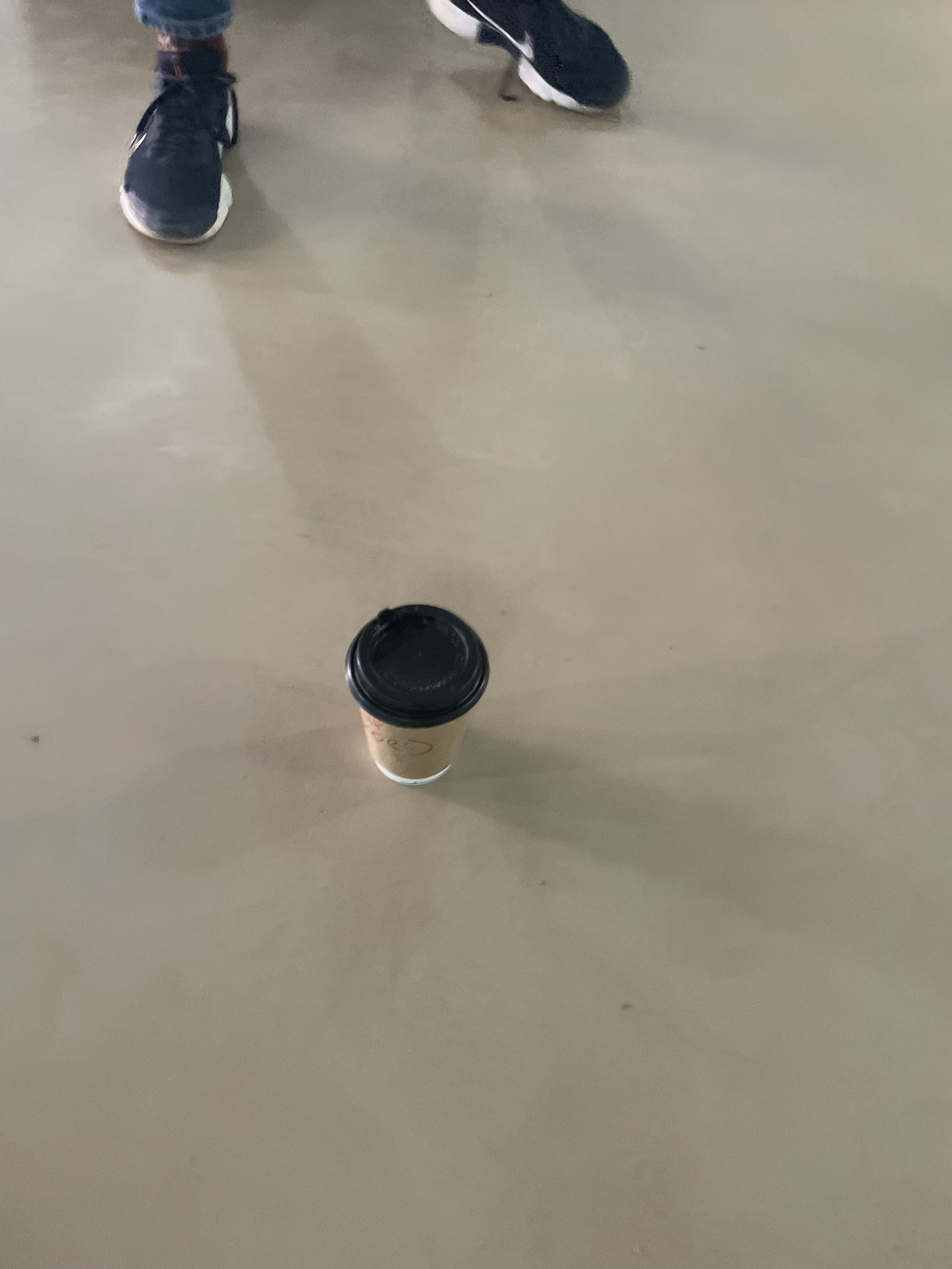cup: (344, 604, 490, 786)
